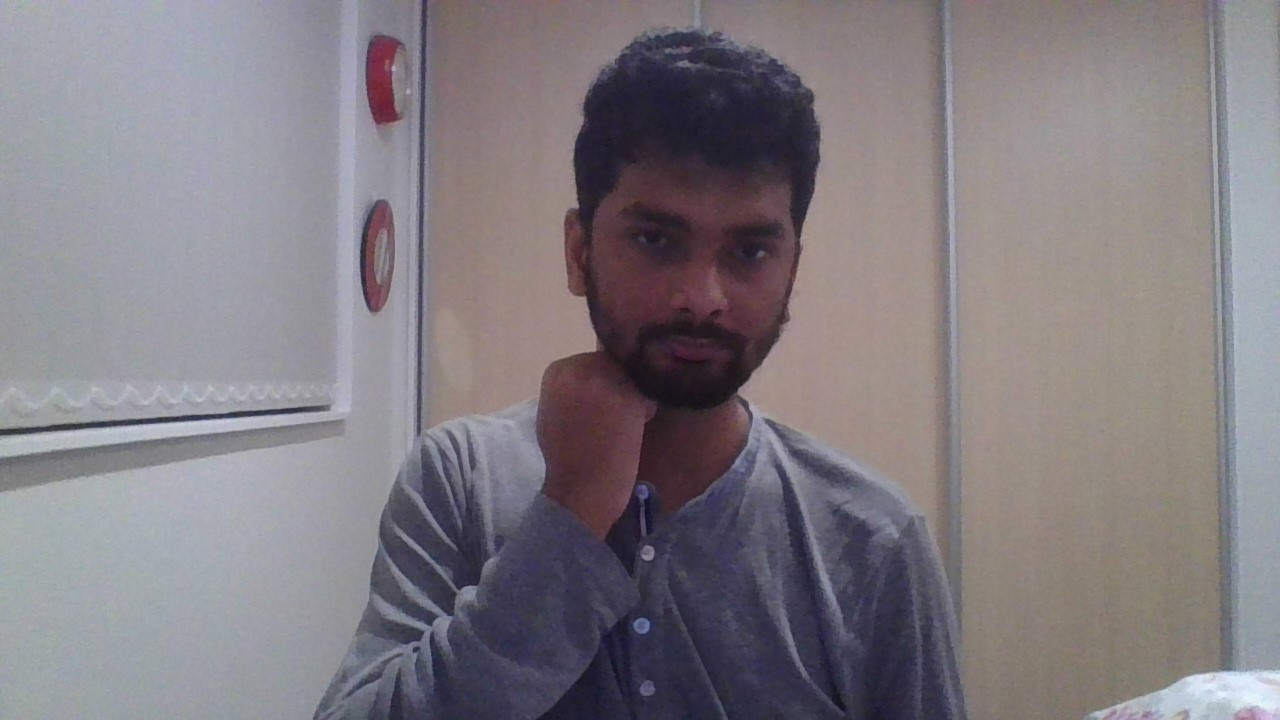day: (538, 350, 660, 540)
